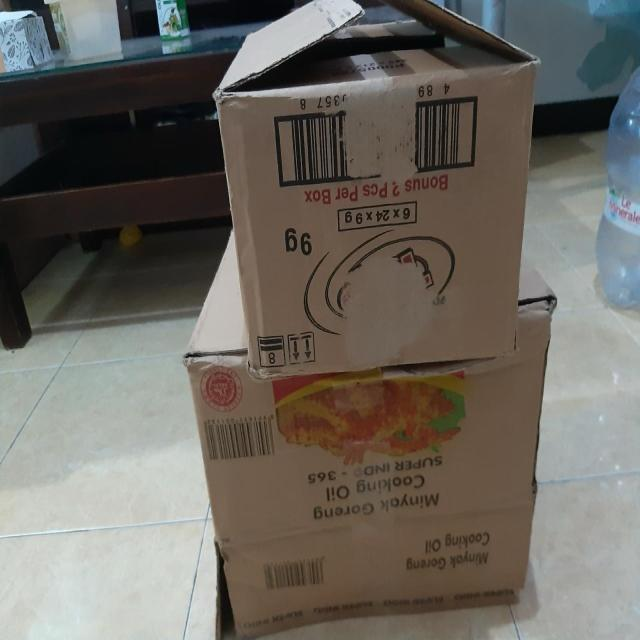Galon: (598, 66, 640, 306)
Kardus: (183, 219, 544, 640), (210, 7, 539, 377)
